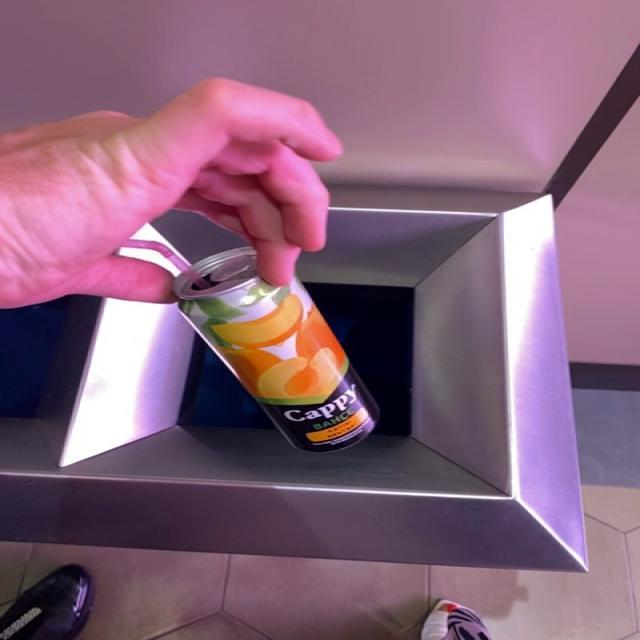Bin: (1, 186, 588, 572)
Metal: (173, 248, 379, 452)
